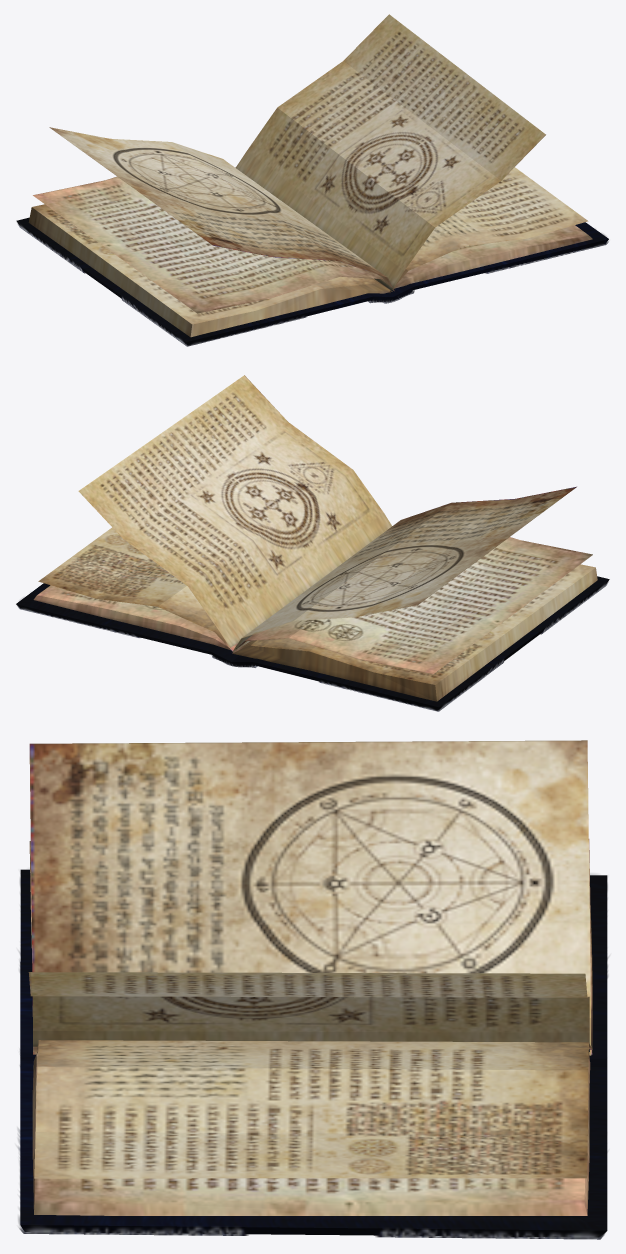
The model's file is book_of_the_moon_blue-silver.glb.
3 views of the same model, one above another, from view 1: azimuth 30°, elevation 25°; view 2: azimuth 150°, elevation 25°; view 3: azimuth 270°, elevation 25° (orthographic). The views are drawn at different scales.
Visible parts, largest first — view 1: 3DSMeshMatrix; view 2: 3DSMeshMatrix; view 3: 3DSMeshMatrix.
Boxes of the visible parts, x1,y1,x2,y2 form: 3DSMeshMatrix: (16, 14, 608, 346); 3DSMeshMatrix: (16, 375, 609, 711); 3DSMeshMatrix: (17, 740, 608, 1239).
Size of what is drawn, in the model's own units: 33.44 by 10.02 by 23.68.
1 material, 1 textured.
